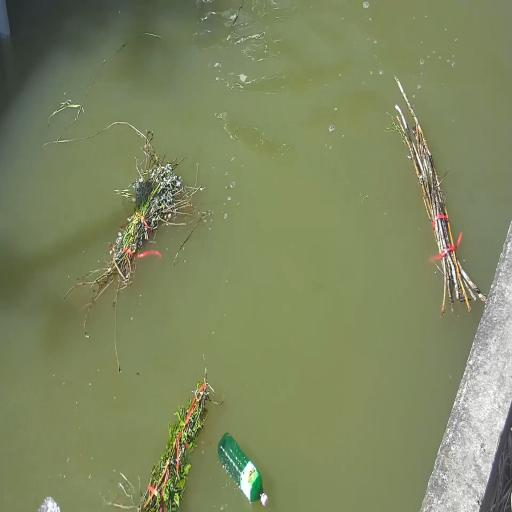plastic: (218, 431, 274, 512), (30, 493, 65, 512)
twig: (390, 72, 484, 314), (91, 148, 197, 308), (120, 370, 212, 512)
